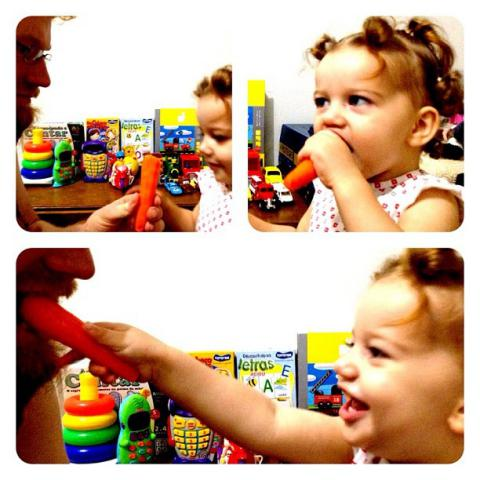truck: (173, 154, 201, 188), (314, 385, 342, 409)
